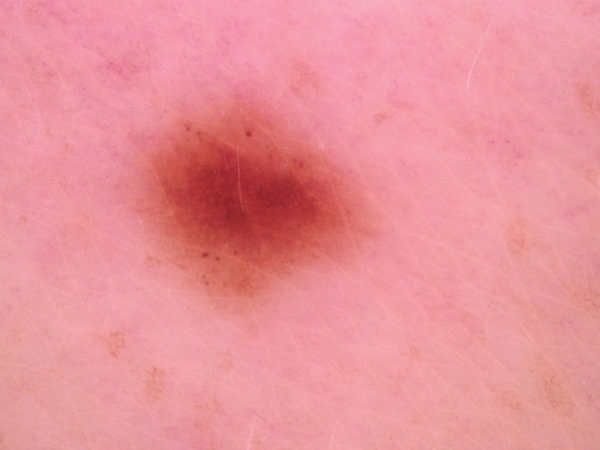Detected Lesion: (123, 107, 377, 298)
